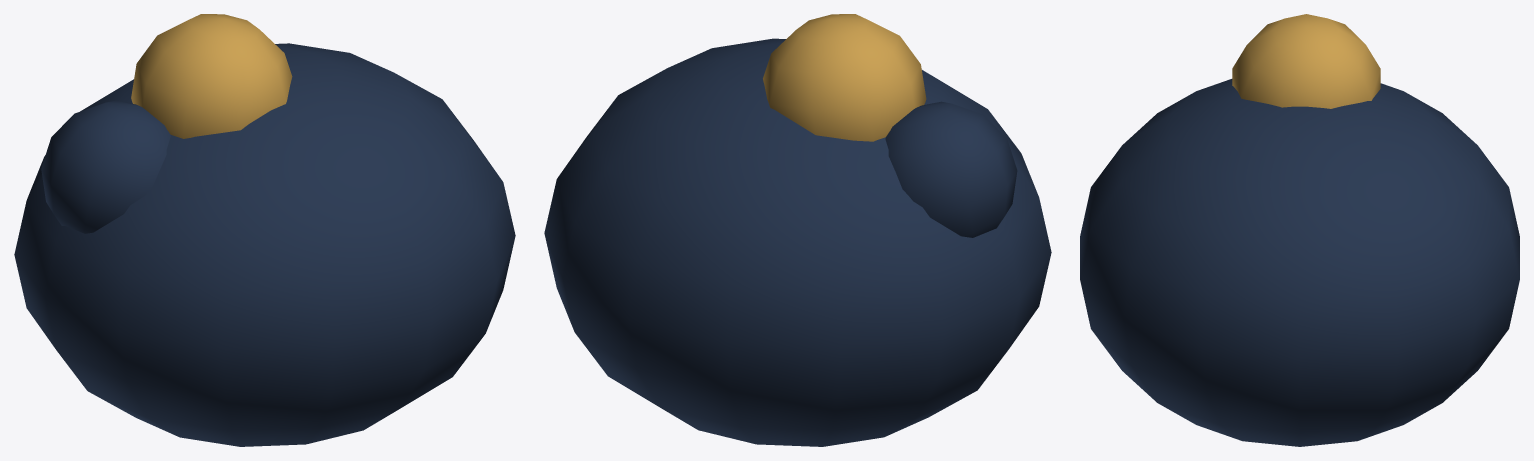
Rendered from child_02_hair.glb.
The picture shows the model from 3 angles, left to right: view 1: azimuth 30°, elevation 25°; view 2: azimuth 150°, elevation 25°; view 3: azimuth 270°, elevation 25°; orthographic projection. The views are drawn at different scales.
Parts seen in each view (by area): view 1: hair_cap, hair_detail_2, hair_detail_1; view 2: hair_cap, hair_detail_2, hair_detail_1; view 3: hair_cap, hair_detail_2.
Part boxes in pixels (x1,y1,x2,y2): hair_cap: (14,43,515,446); hair_detail_2: (131,14,292,138); hair_detail_1: (41,100,170,233); hair_cap: (544,38,1051,446); hair_detail_2: (763,14,926,141); hair_detail_1: (885,101,1017,237); hair_cap: (1080,79,1519,446); hair_detail_2: (1232,14,1380,108).
Bounding box in the file's own units: 0.728 × 0.6448 × 0.6824.
